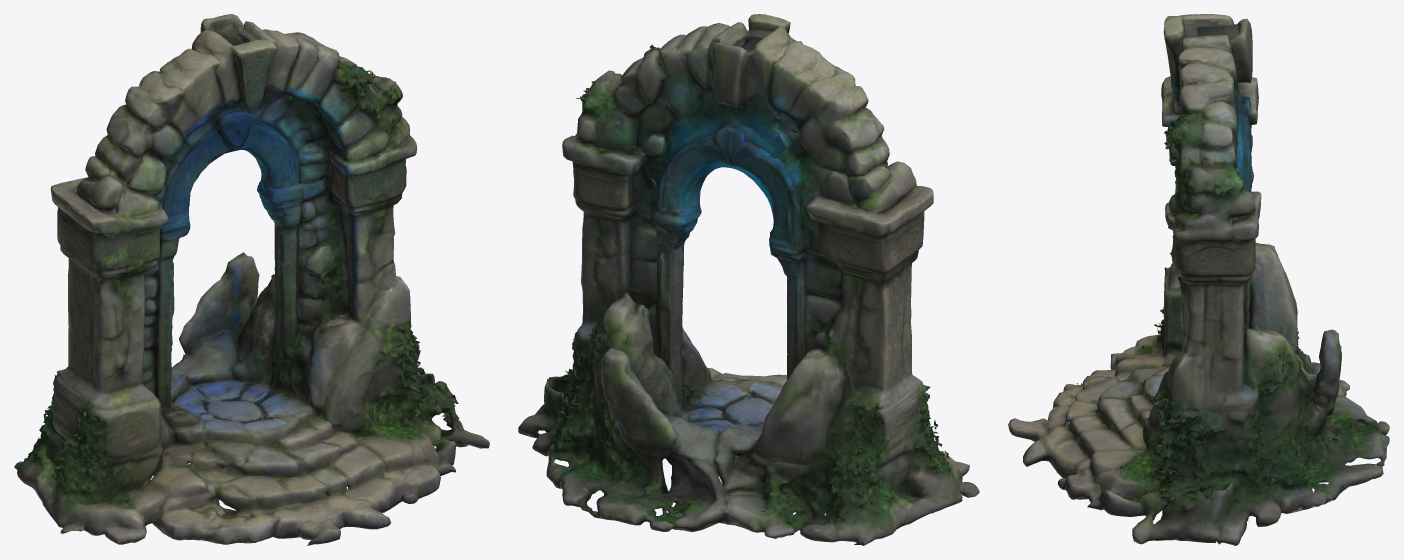
The model's file is arch.glb.
3 views of the same model, side by side, from view 1: azimuth 30°, elevation 25°; view 2: azimuth 150°, elevation 25°; view 3: azimuth 270°, elevation 25° (orthographic). The views are drawn at different scales.
Parts seen in each view (by area): view 1: Object_4, Object_5; view 2: Object_4, Object_5; view 3: Object_4, Object_5.
Boxes of the visible parts, x1,y1,x2,y2 form: Object_4: [14, 14, 489, 544]; Object_5: [18, 22, 463, 545]; Object_4: [518, 14, 979, 545]; Object_5: [531, 23, 960, 544]; Object_4: [1008, 14, 1389, 545]; Object_5: [1041, 21, 1387, 544].
Size of the model in its own units: 3.96 by 4 by 3.28.
1 material, 1 textured.
